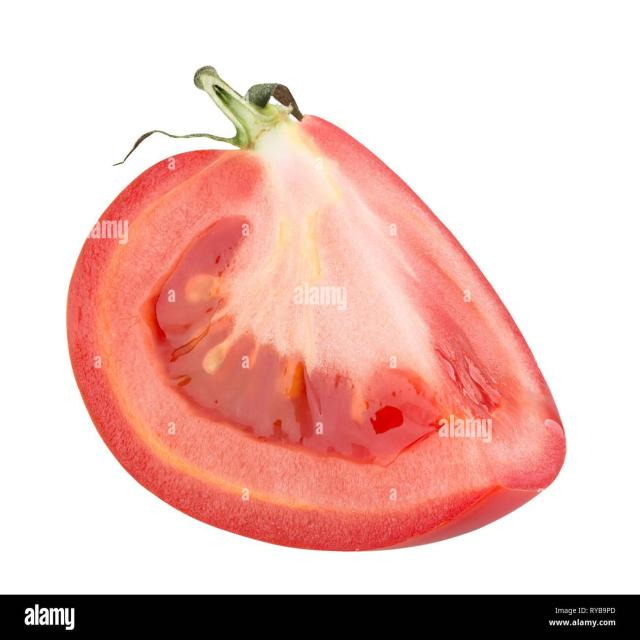Tomato: (68, 105, 591, 561)
